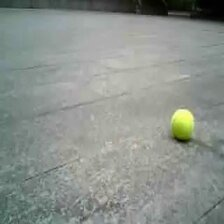tennis: (171, 109, 194, 138)
